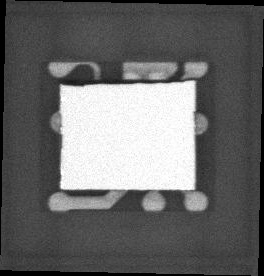DIE_BROKEN: (59, 79, 193, 88)
